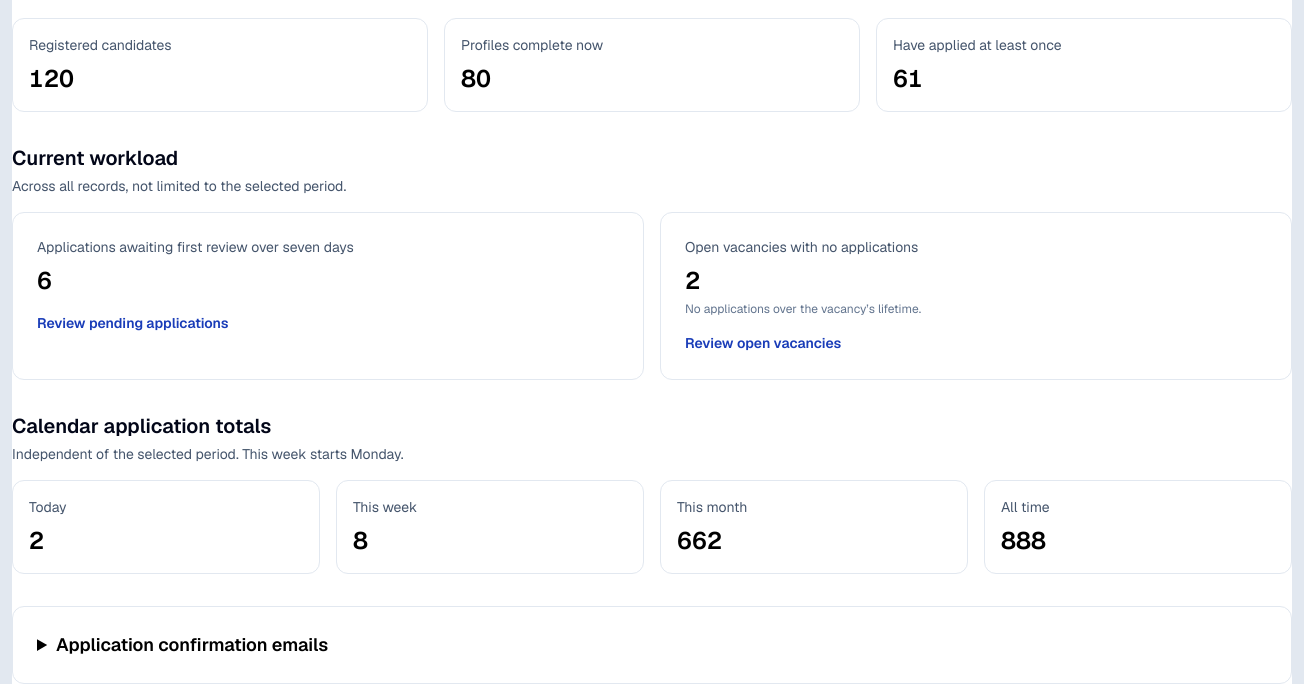
Super-admin recruitment reporting › labels incomplete current periods and keeps email health independent
(page scrolled)
Click the heading "Application confirmation emails". click: (192, 644)
box: [56,632,328,656]
(page scrolled)
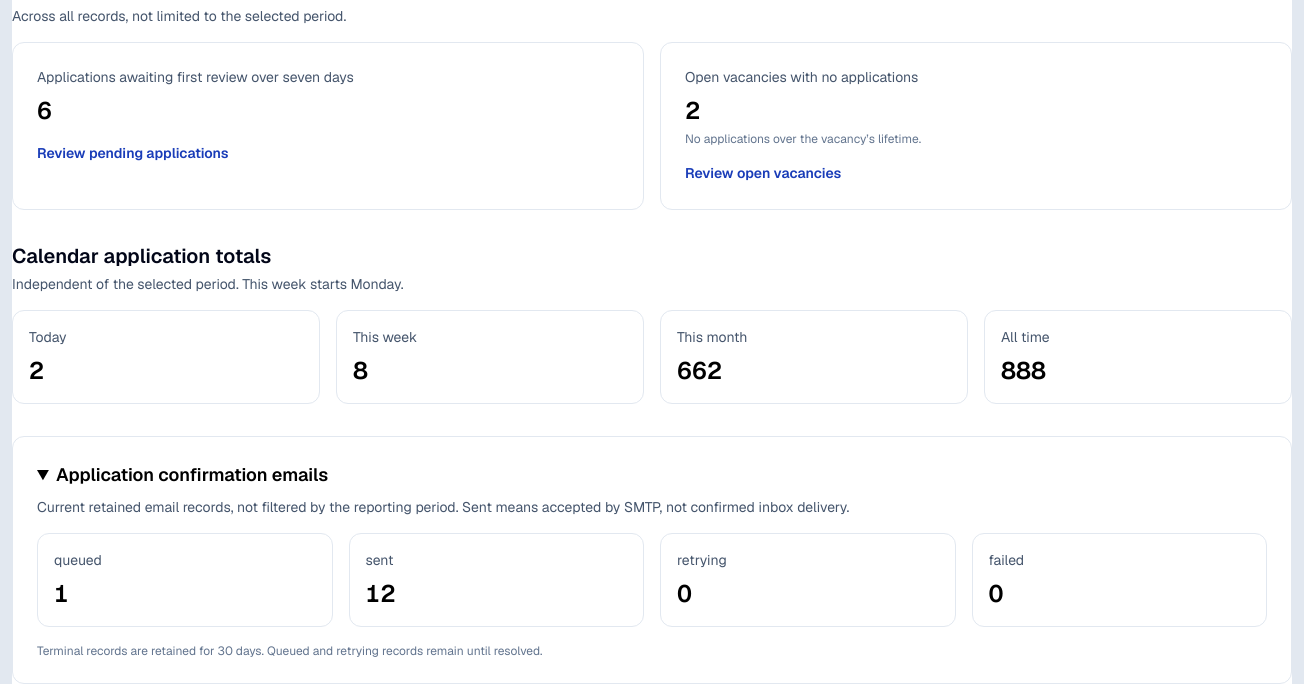
Result: the text "Sent means accepted by SMTP" is shown at [37,498,849,516]
